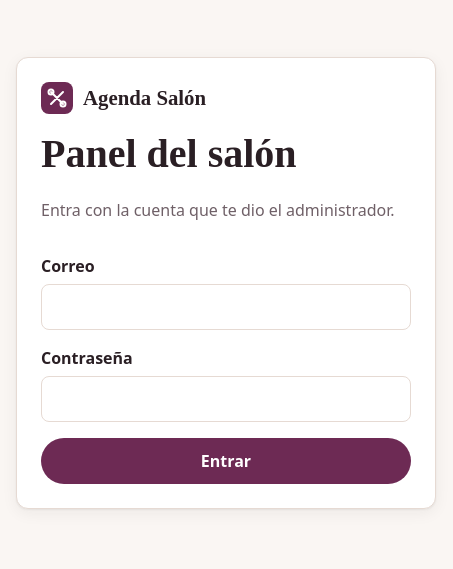
Scenario: PaginaEntrar › con credenciales incorrectas muestra el mensaje de la API y limpia la contraseña
The width and height of the screenshot is (453, 569).
Step 1. Type "admin@salon.com" into the field labelled "Correo" → x=226, y=307, box [41,284,411,330]
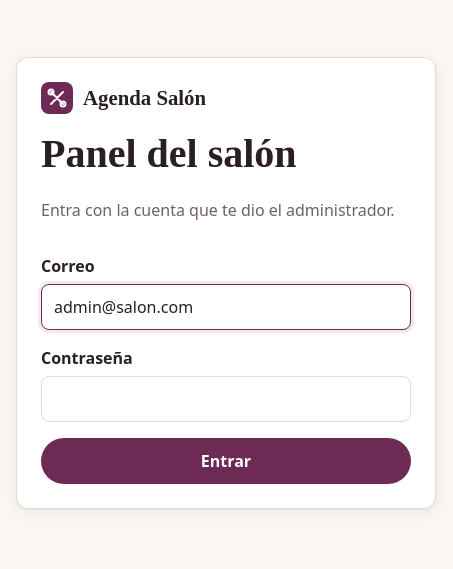
Step 2. Type "incorrecta" into the password field labelled "Contraseña" → x=226, y=399, box [41,376,411,422]
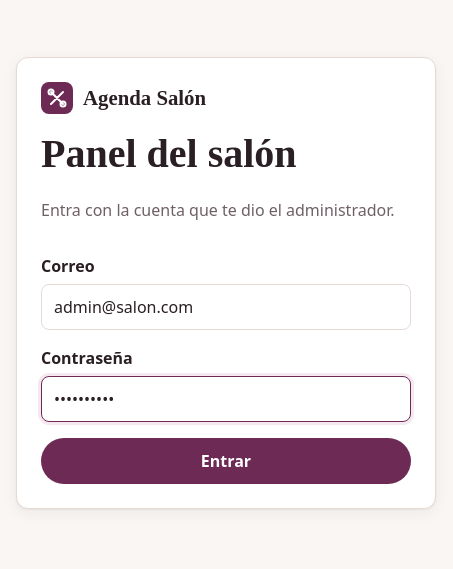
Step 3. Click the button "Entrar" → x=226, y=461, box [41,438,411,484]
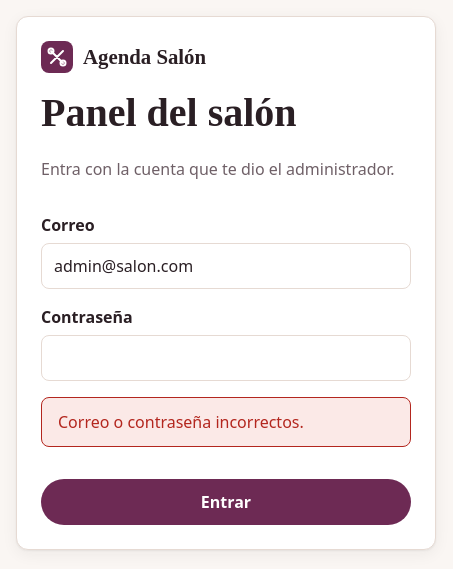
Now the message reads "Correo o contraseña incorrectos.", box [58,411,304,433]
Now the password field labelled "Contraseña" is empty, box [41,335,411,381]
